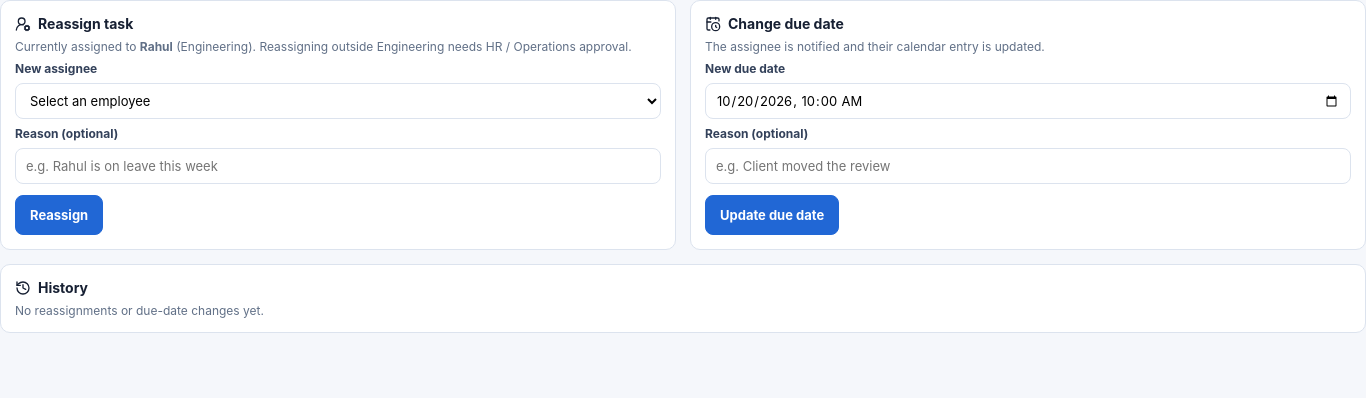
Test: TaskManagePanel › shows the explanation when a change is denied
Replace the text in the field labelled "New due date" with "2026-10-25T09:30" at (1028, 101), box [705, 83, 1351, 119]
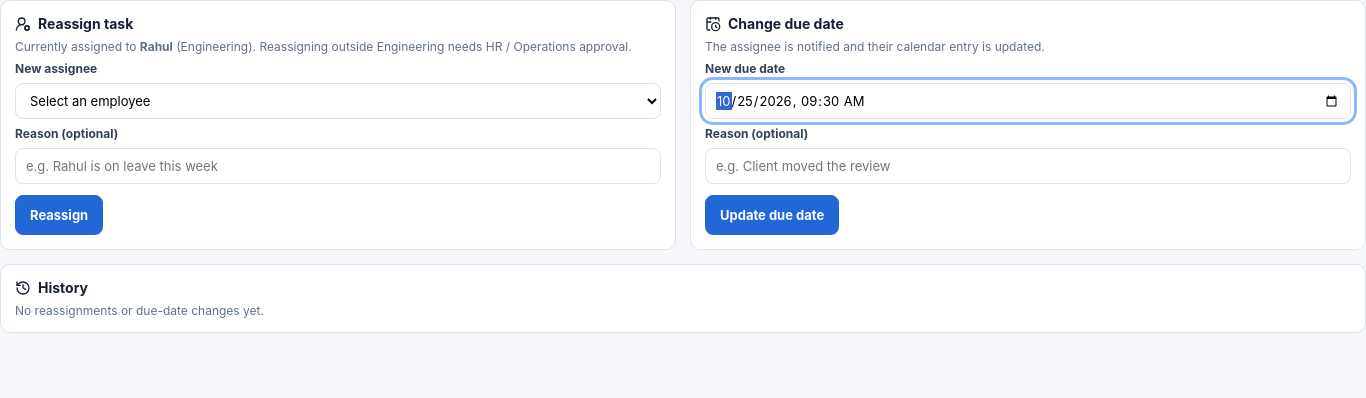
Click the button "Update due date" at (772, 215), box [705, 195, 839, 235]
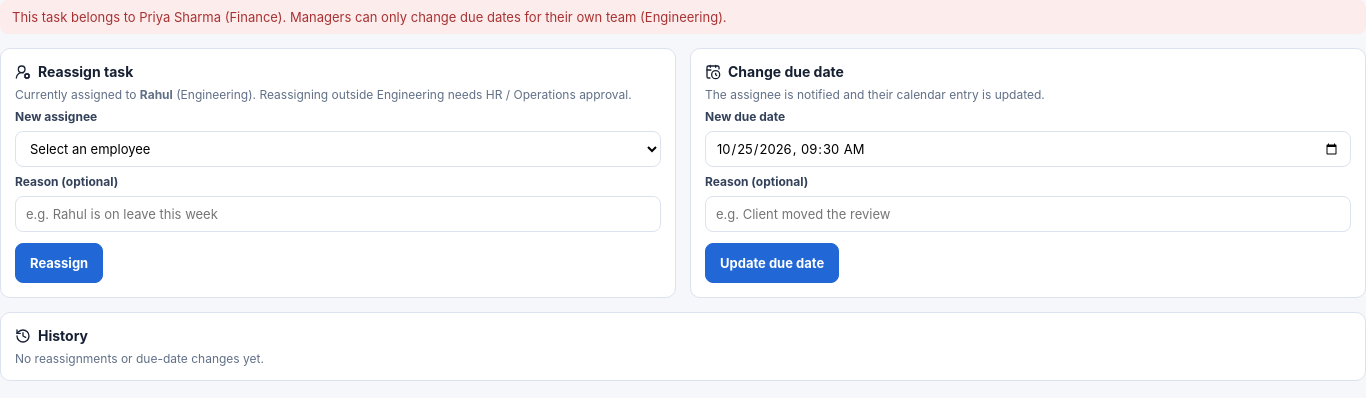
Now the message shows "Managers can only change due dates for their own team", box [12, 9, 727, 25]
